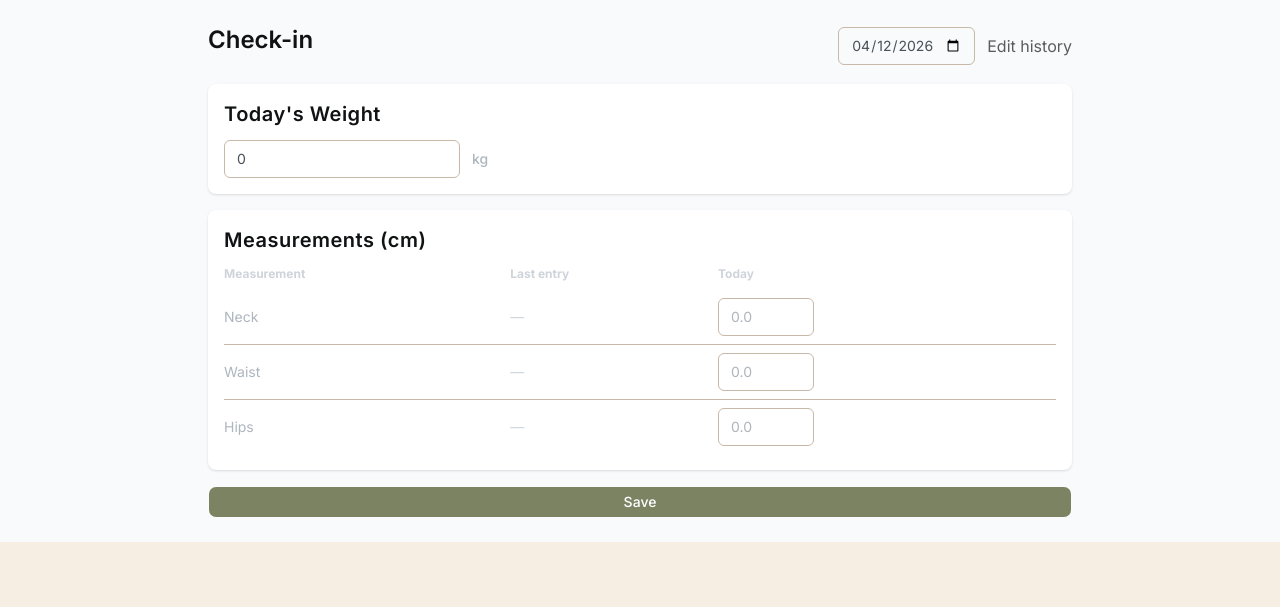
Test: CheckInPage › shows confirmation message after saving
The image size is (1280, 607).
Click the button "Save".
click(640, 502)  # box [208,486,1072,518]
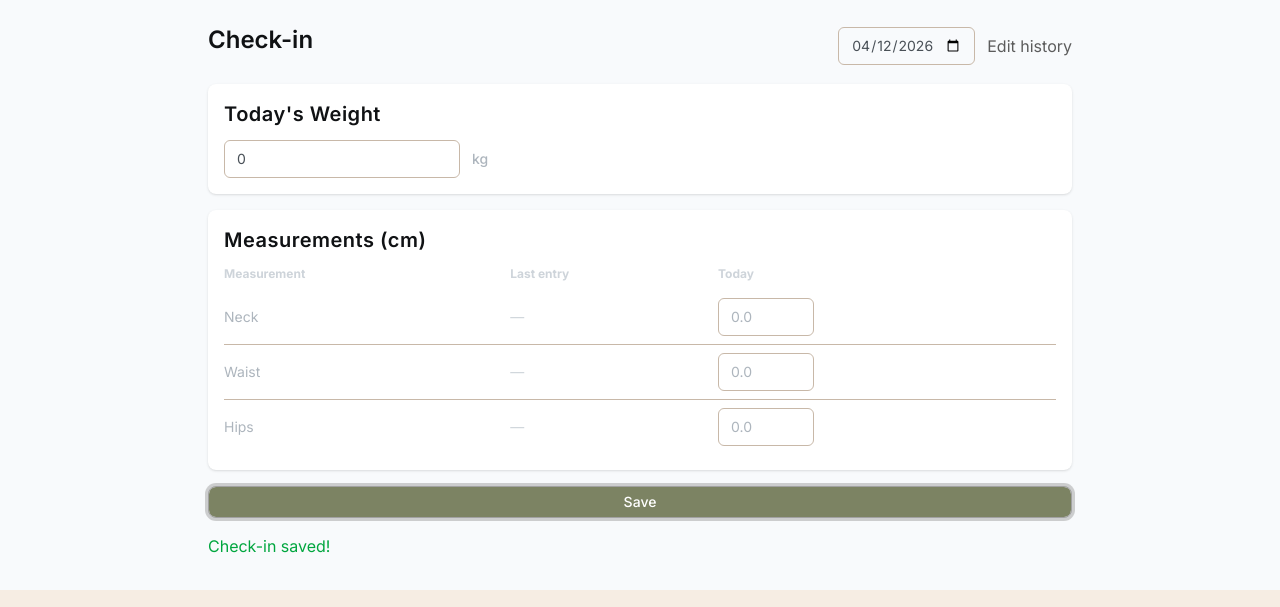
Expected: the text "Check-in saved!" is shown, [208,536,330,556]
